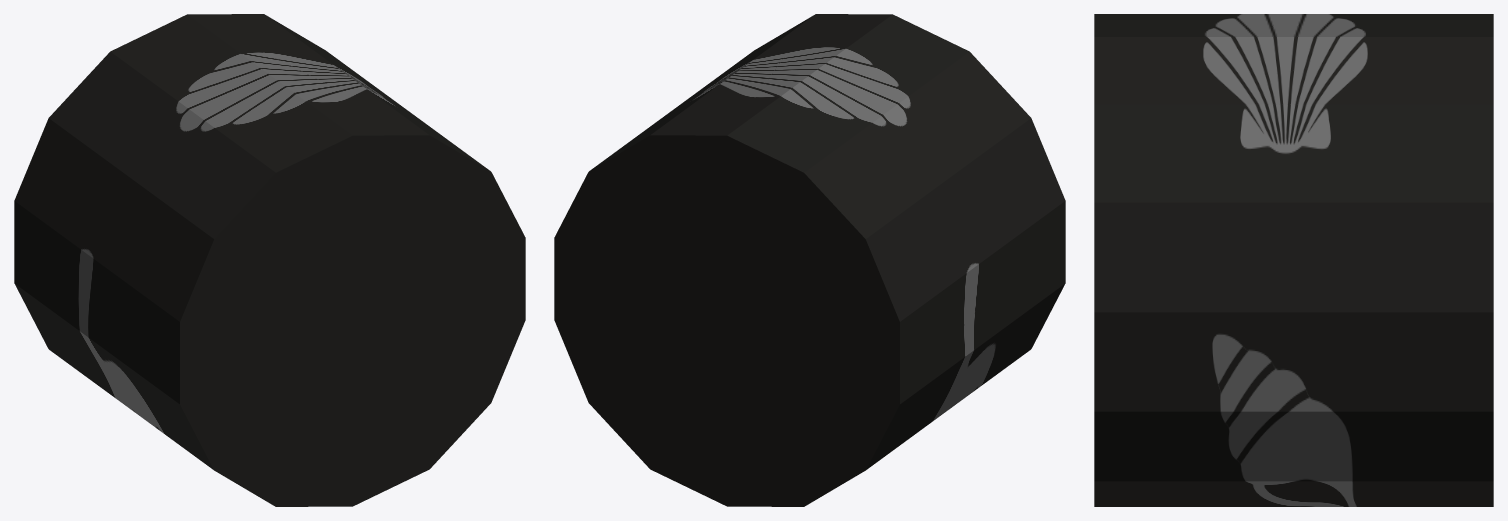
The model's file is trapdoorlockdials.glb.
The picture shows the model from 3 angles, left to right: view 1: azimuth 30°, elevation 25°; view 2: azimuth 150°, elevation 25°; view 3: azimuth 270°, elevation 25°; orthographic projection. The views are drawn at different scales.
Parts seen in each view (by area): view 1: Left; view 2: Left; view 3: Left.
Part boxes in pixels (x1,y1,x2,y2): Left: (14, 14, 525, 506); Left: (554, 14, 1065, 506); Left: (1094, 14, 1493, 506).
Size of the model in its own units: 1.75 by 1.8 by 1.46.
Materials: 1 (1 with a texture image).
